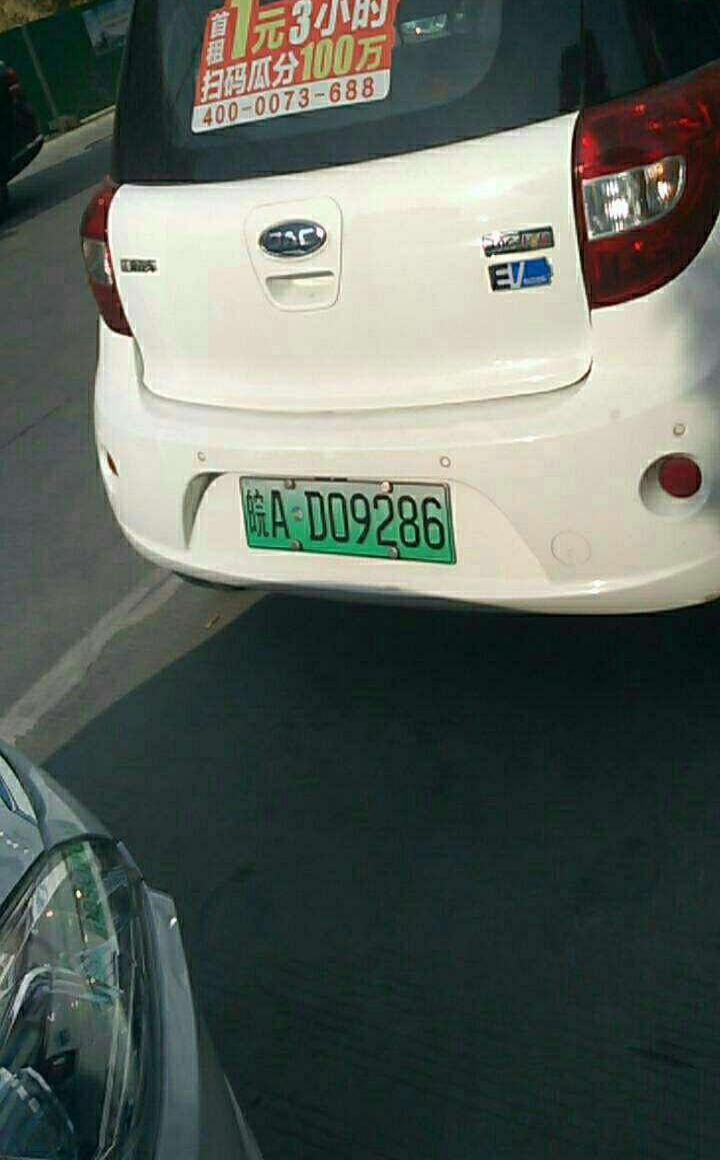car_id: (238, 480, 457, 553)
